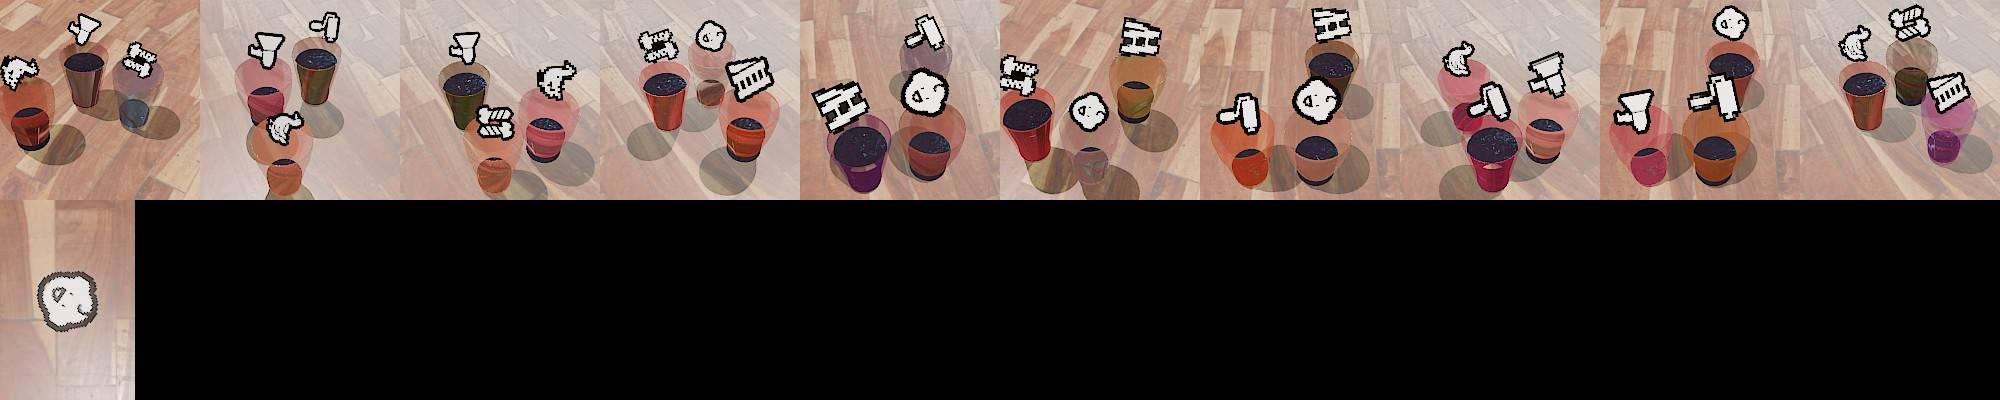icon: (36, 269, 99, 332), (811, 80, 869, 135), (899, 66, 953, 117), (1686, 70, 1740, 120), (1291, 75, 1342, 125), (724, 55, 773, 103), (1217, 90, 1263, 135), (1526, 50, 1568, 98), (1926, 70, 1971, 115), (1467, 79, 1511, 122), (1119, 17, 1162, 59), (999, 54, 1041, 96), (1068, 90, 1110, 131), (1614, 88, 1654, 130), (636, 25, 680, 64), (906, 13, 946, 52), (536, 61, 577, 101), (1889, 4, 1930, 42), (1311, 6, 1352, 43), (264, 108, 305, 145), (476, 103, 517, 140), (249, 31, 286, 70), (0, 55, 41, 90), (1712, 5, 1749, 42), (1443, 39, 1476, 79), (122, 42, 157, 79), (1839, 24, 1871, 62), (68, 13, 102, 47), (449, 31, 482, 66), (694, 20, 727, 55), (307, 10, 339, 43)
